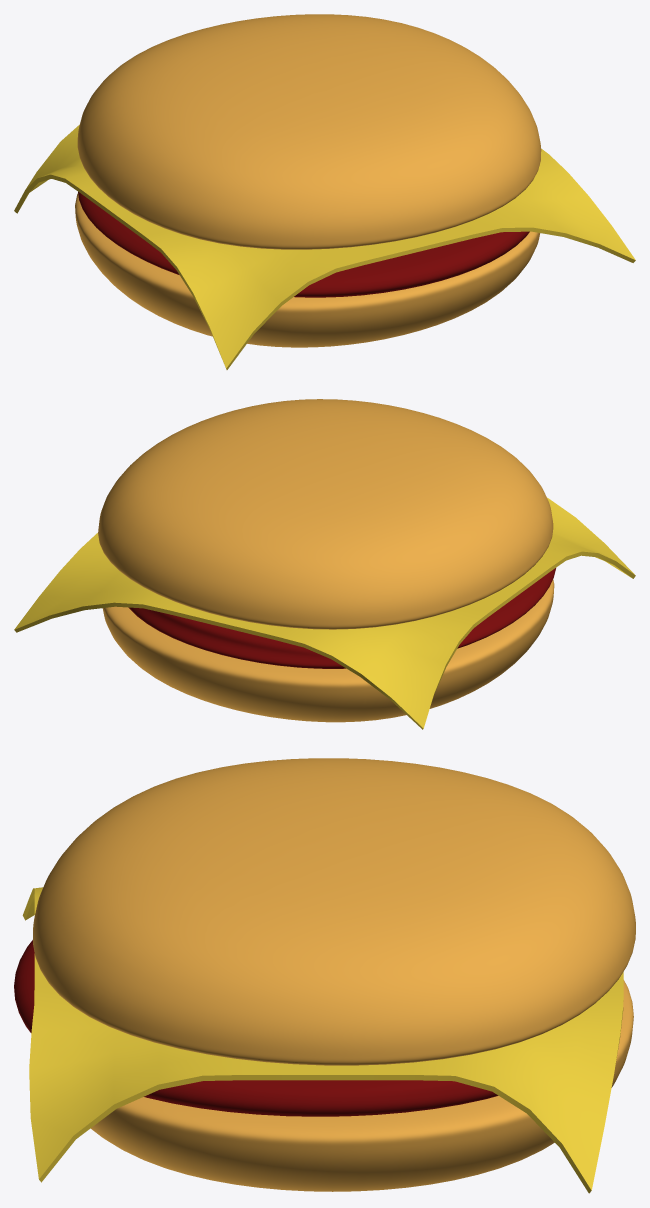
Rendered from hamburger.glb.
3 renders of one model, top to bottom at view 1: azimuth 30°, elevation 25°; view 2: azimuth 150°, elevation 25°; view 3: azimuth 270°, elevation 25°, orthographic. The views are drawn at different scales.
Parts seen in each view (by area): view 1: Cube.003, Plane, Cube.001, Cube; view 2: Cube.003, Plane, Cube.001, Cube; view 3: Cube.003, Plane, Cube.001, Cube.
Part boxes in pixels (x1,y1,x2,y2): Cube.003: (77, 14, 541, 249); Plane: (14, 124, 635, 369); Cube.001: (75, 193, 540, 347); Cube: (78, 192, 529, 297); Cube.003: (98, 399, 553, 629); Plane: (14, 497, 635, 729); Cube.001: (102, 579, 554, 722); Cube: (129, 568, 555, 668); Cube.003: (33, 758, 635, 1065); Plane: (22, 887, 623, 1193); Cube.001: (91, 980, 633, 1191); Cube: (14, 940, 498, 1116).
Bounding box in the file's own units: 9.94 × 4.86 × 9.56.
